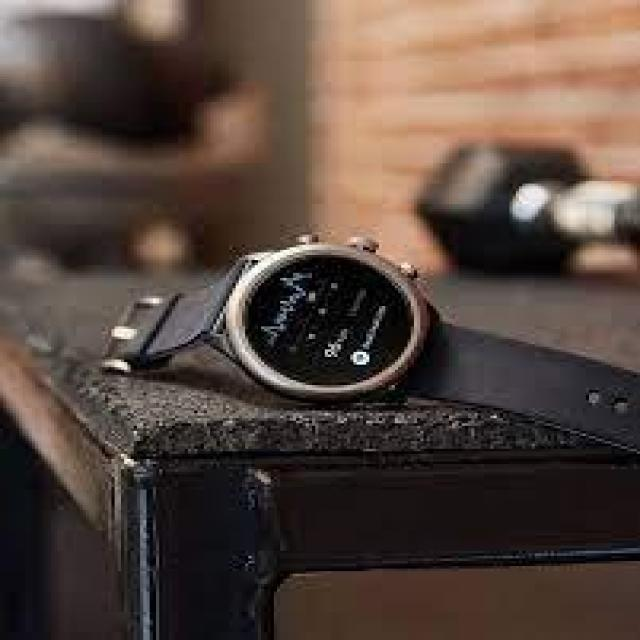watch: (166, 217, 624, 510)
